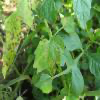Tomato Septoria leaf spot: (2, 1, 35, 76), (32, 34, 67, 77)
